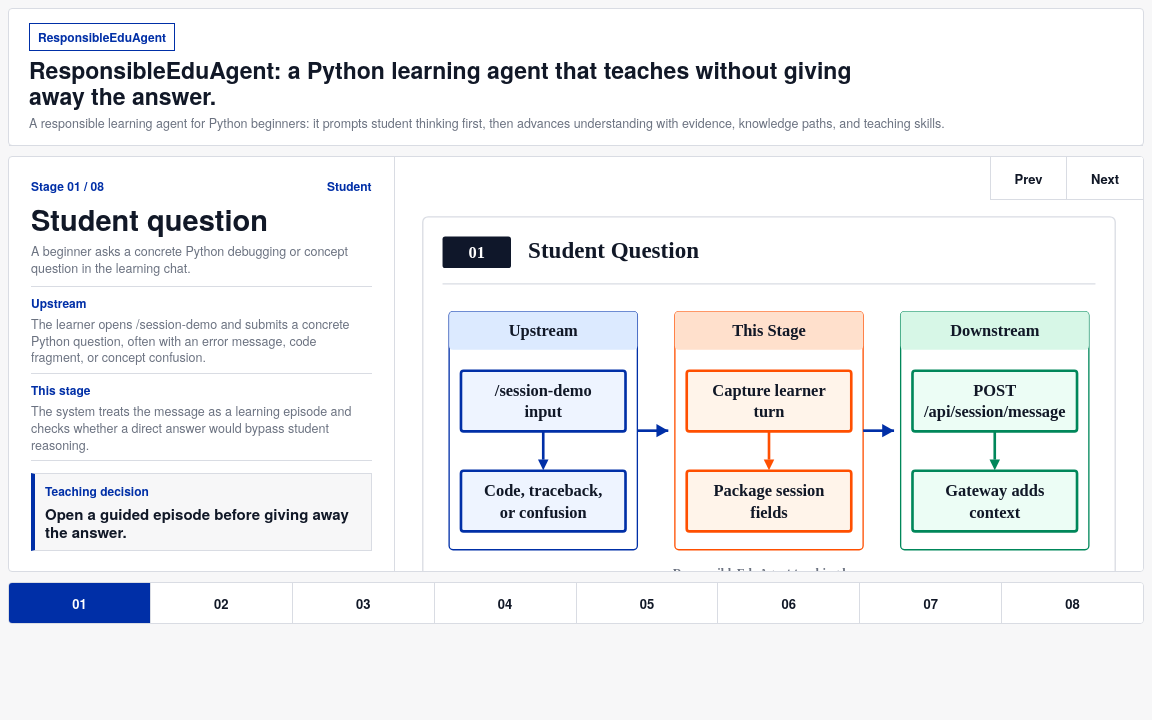
Test: shows one poster stage at a time with sequential and direct navigation
Expected: the heading "Student question" is shown, [31, 198, 268, 240]
Expected: the picture with alt text "Student question flow diagram" is shown, [406, 201, 1131, 571]
Click the button with aria-label "Next stage" at (1105, 178), box [1067, 157, 1143, 199]
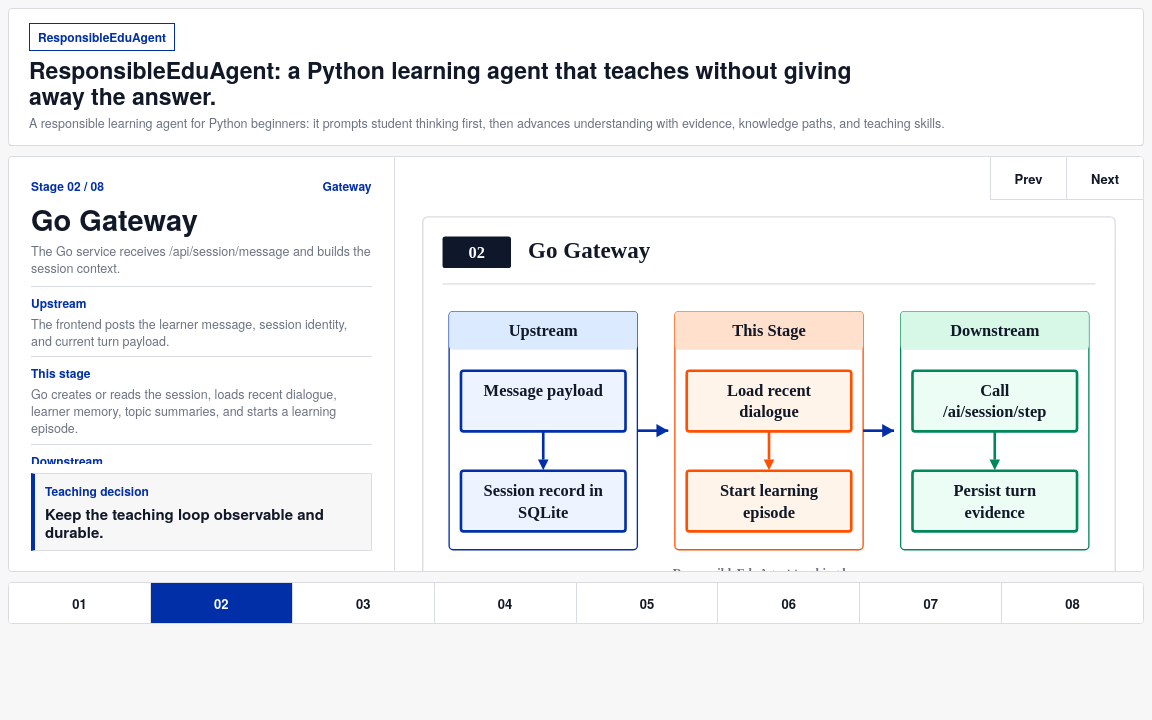
Now the heading "Go Gateway" is shown, box [31, 198, 198, 240]
Now the heading "Student question" is gone
Click the button named "Jump to KG grounding" at (506, 603), box [435, 583, 576, 623]
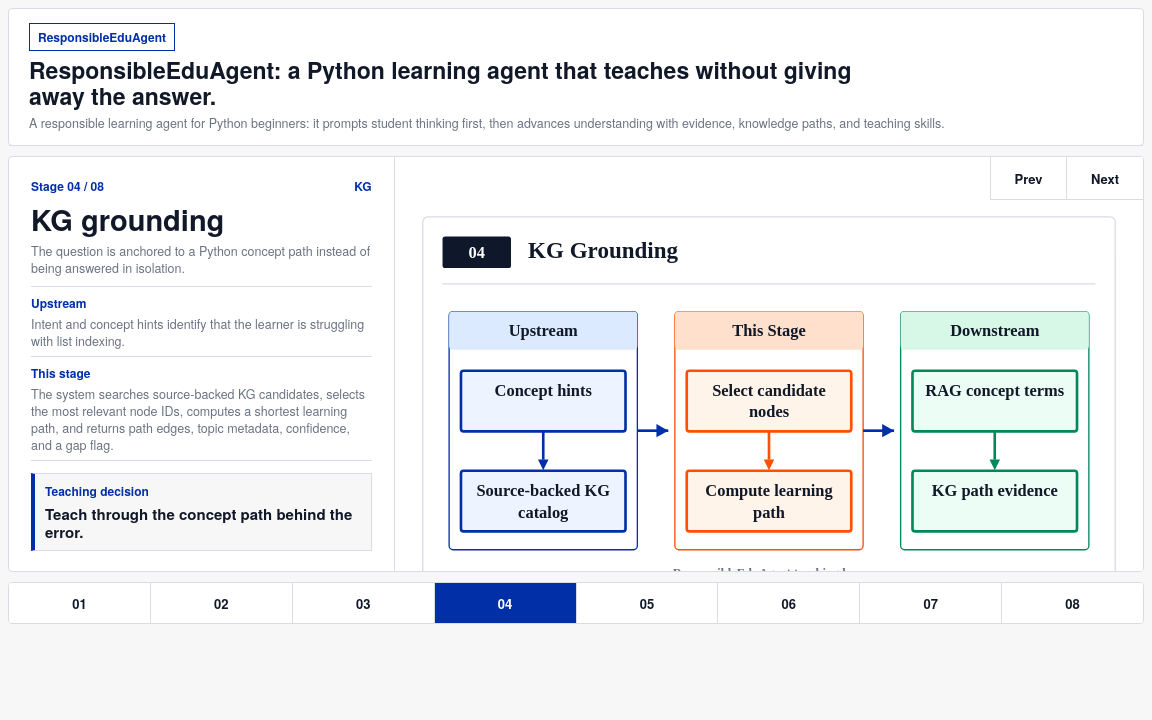
Now the heading "KG grounding" is shown, box [31, 198, 224, 240]
Now the heading "Go Gateway" is gone
Click the button with aria-label "Previous stage" at (1029, 178), box [991, 157, 1067, 199]
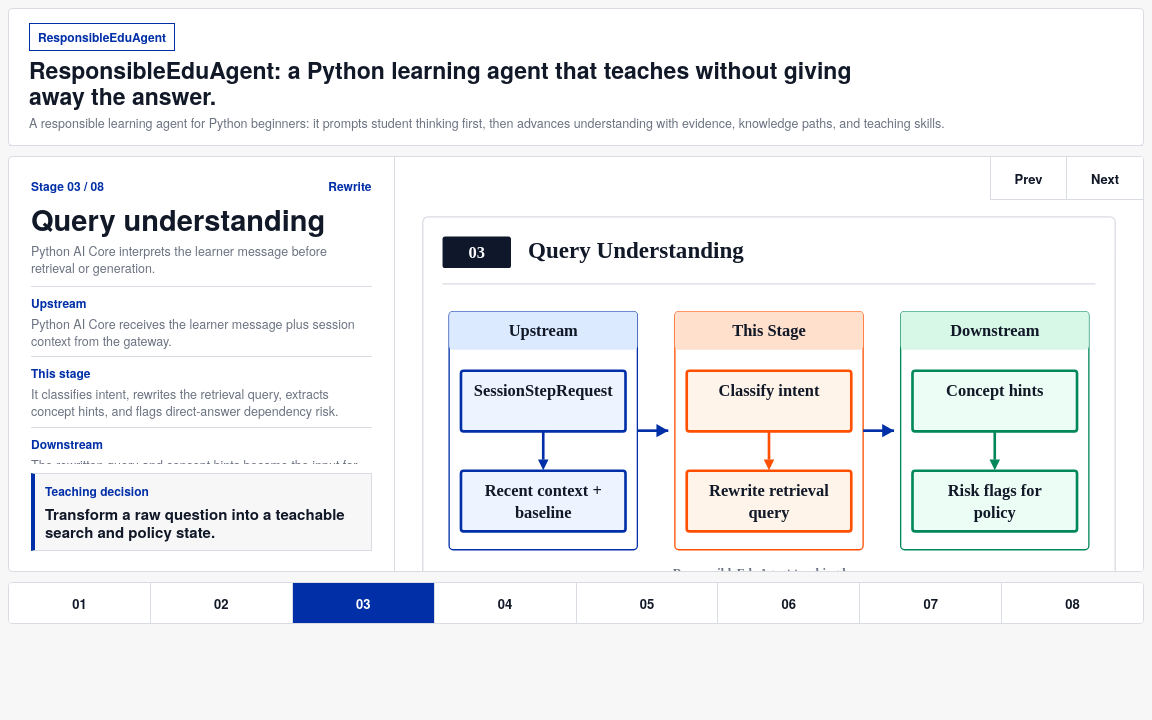
Now the heading "Query understanding" is shown, box [31, 204, 372, 234]
